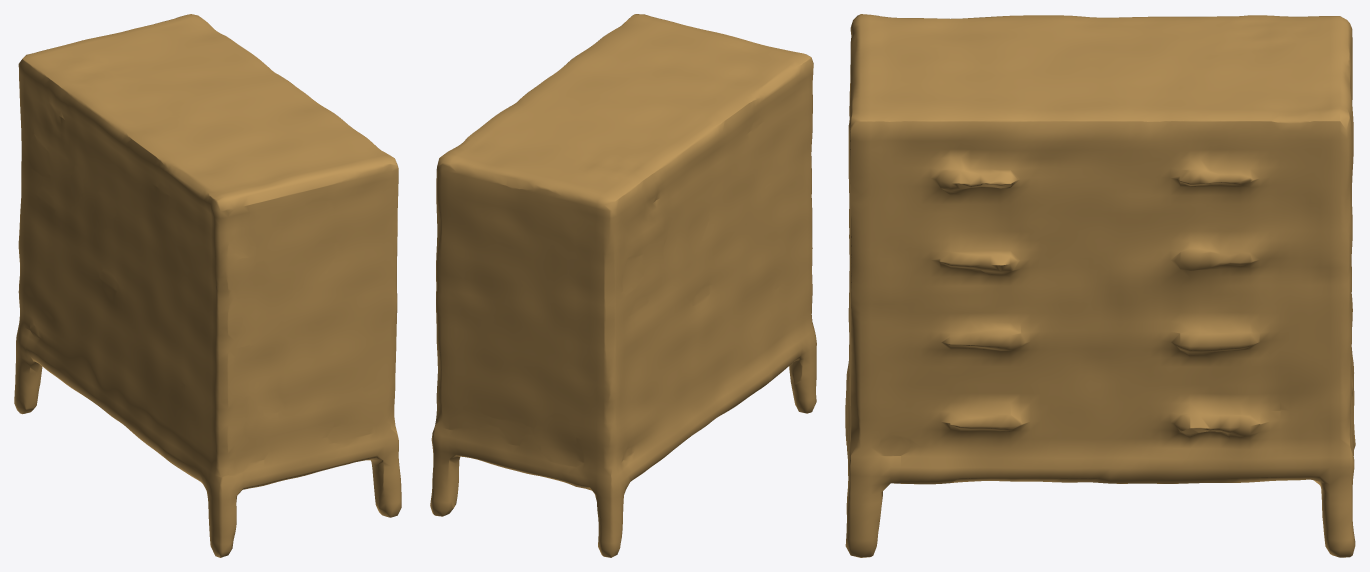
Rendered from cabinet.glb.
The picture shows the model from 3 angles, left to right: view 1: azimuth 30°, elevation 25°; view 2: azimuth 150°, elevation 25°; view 3: azimuth 270°, elevation 25°; orthographic projection. The views are drawn at different scales.
Visible parts, largest first — view 1: Bedroom-20397-cabinet; view 2: Bedroom-20397-cabinet; view 3: Bedroom-20397-cabinet.
Part boxes in pixels (x1,y1,x2,y2): Bedroom-20397-cabinet: (14,14,401,557); Bedroom-20397-cabinet: (430,14,816,557); Bedroom-20397-cabinet: (845,14,1355,557).
Size of what is drawn, in the model's own units: 0.4376 by 0.7632 by 0.799.
